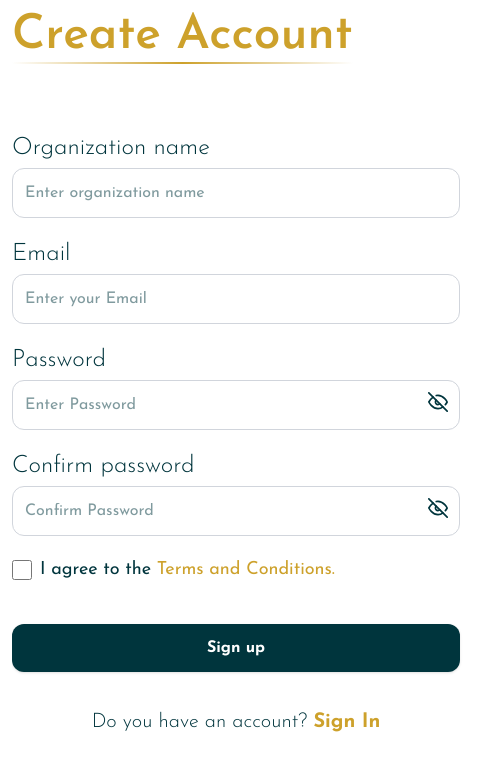
Test: RegisterForm › validates password match
This screenshot has width=477, height=769.
Type "password123" into the password field labelled "Password" at [236, 405], box [12,380,460,430]
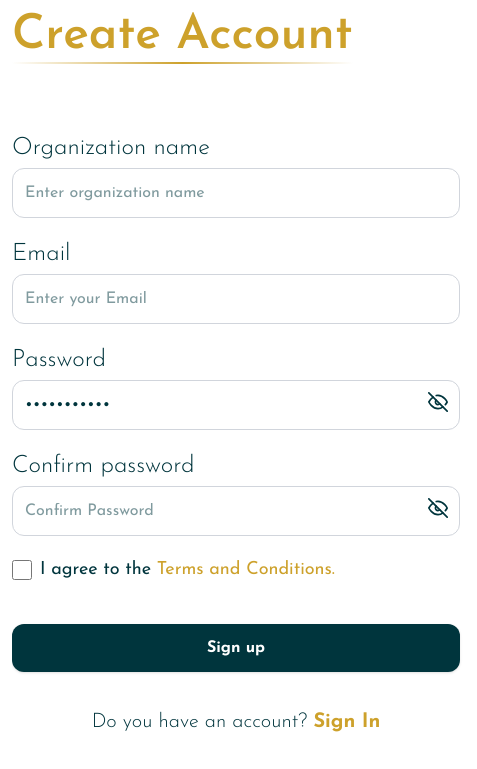
Type "mismatch" into the password field labelled "Confirm password" at [236, 511], box [12,486,460,536]
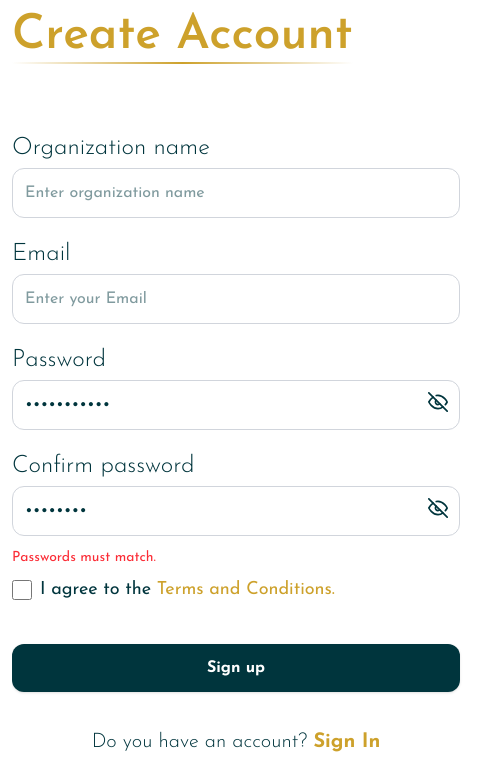
Result: the text "Passwords must match." is shown at [12,550,156,565]
